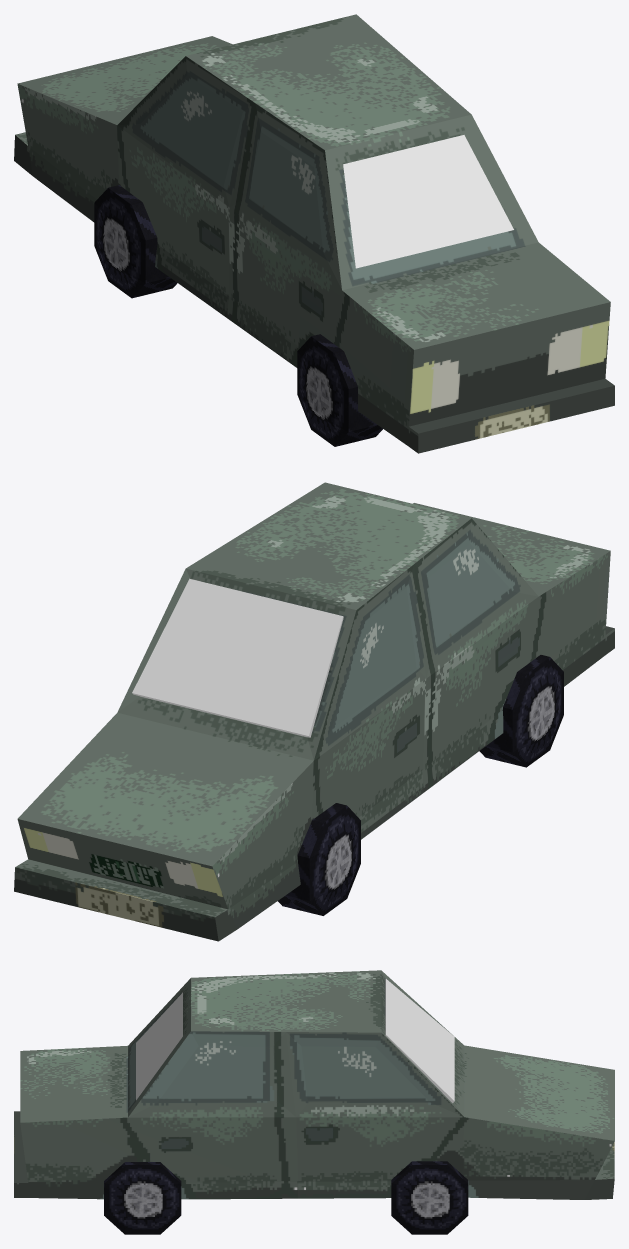
The model's file is car_grey_1.fbx.
3 renders of one model, top to bottom at view 1: azimuth 30°, elevation 25°; view 2: azimuth 150°, elevation 25°; view 3: azimuth 270°, elevation 25°, orthographic. The views are drawn at different scales.
Parts seen in each view (by area): view 1: auto sede; view 2: auto sede; view 3: auto sede.
Part boxes in pixels (x1=…): auto sede: x1=14, y1=14, x2=614, y2=453; auto sede: x1=14, y1=482, x2=614, y2=941; auto sede: x1=14, y1=970, x2=614, y2=1234.
Bounding box in the file's own units: 141 × 158 × 443.
